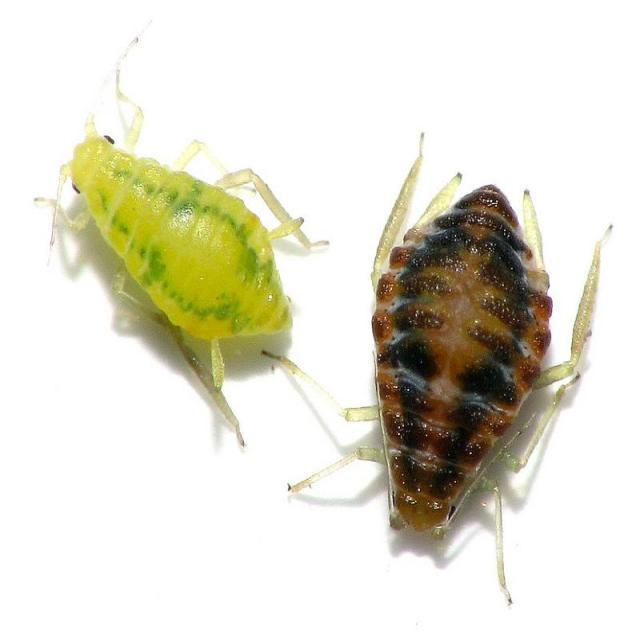aphid: (340, 139, 602, 593), (36, 74, 320, 428)
